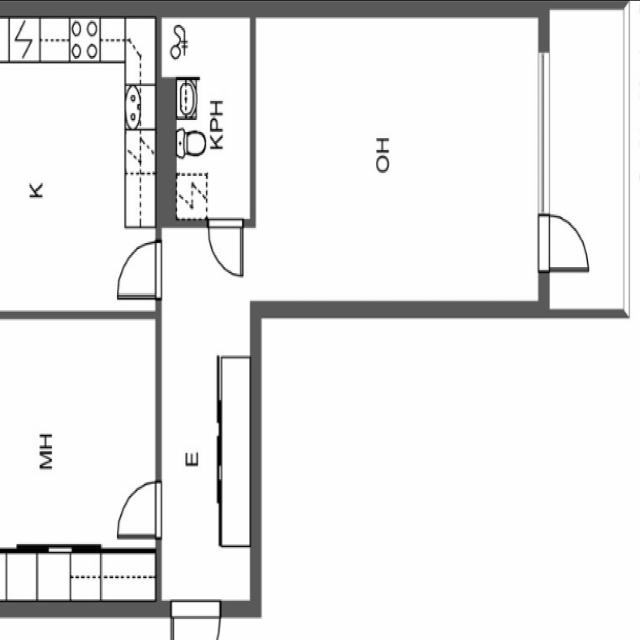door: (538, 215, 587, 270), (117, 482, 162, 536), (117, 242, 162, 296), (170, 600, 220, 640), (209, 218, 243, 274)
